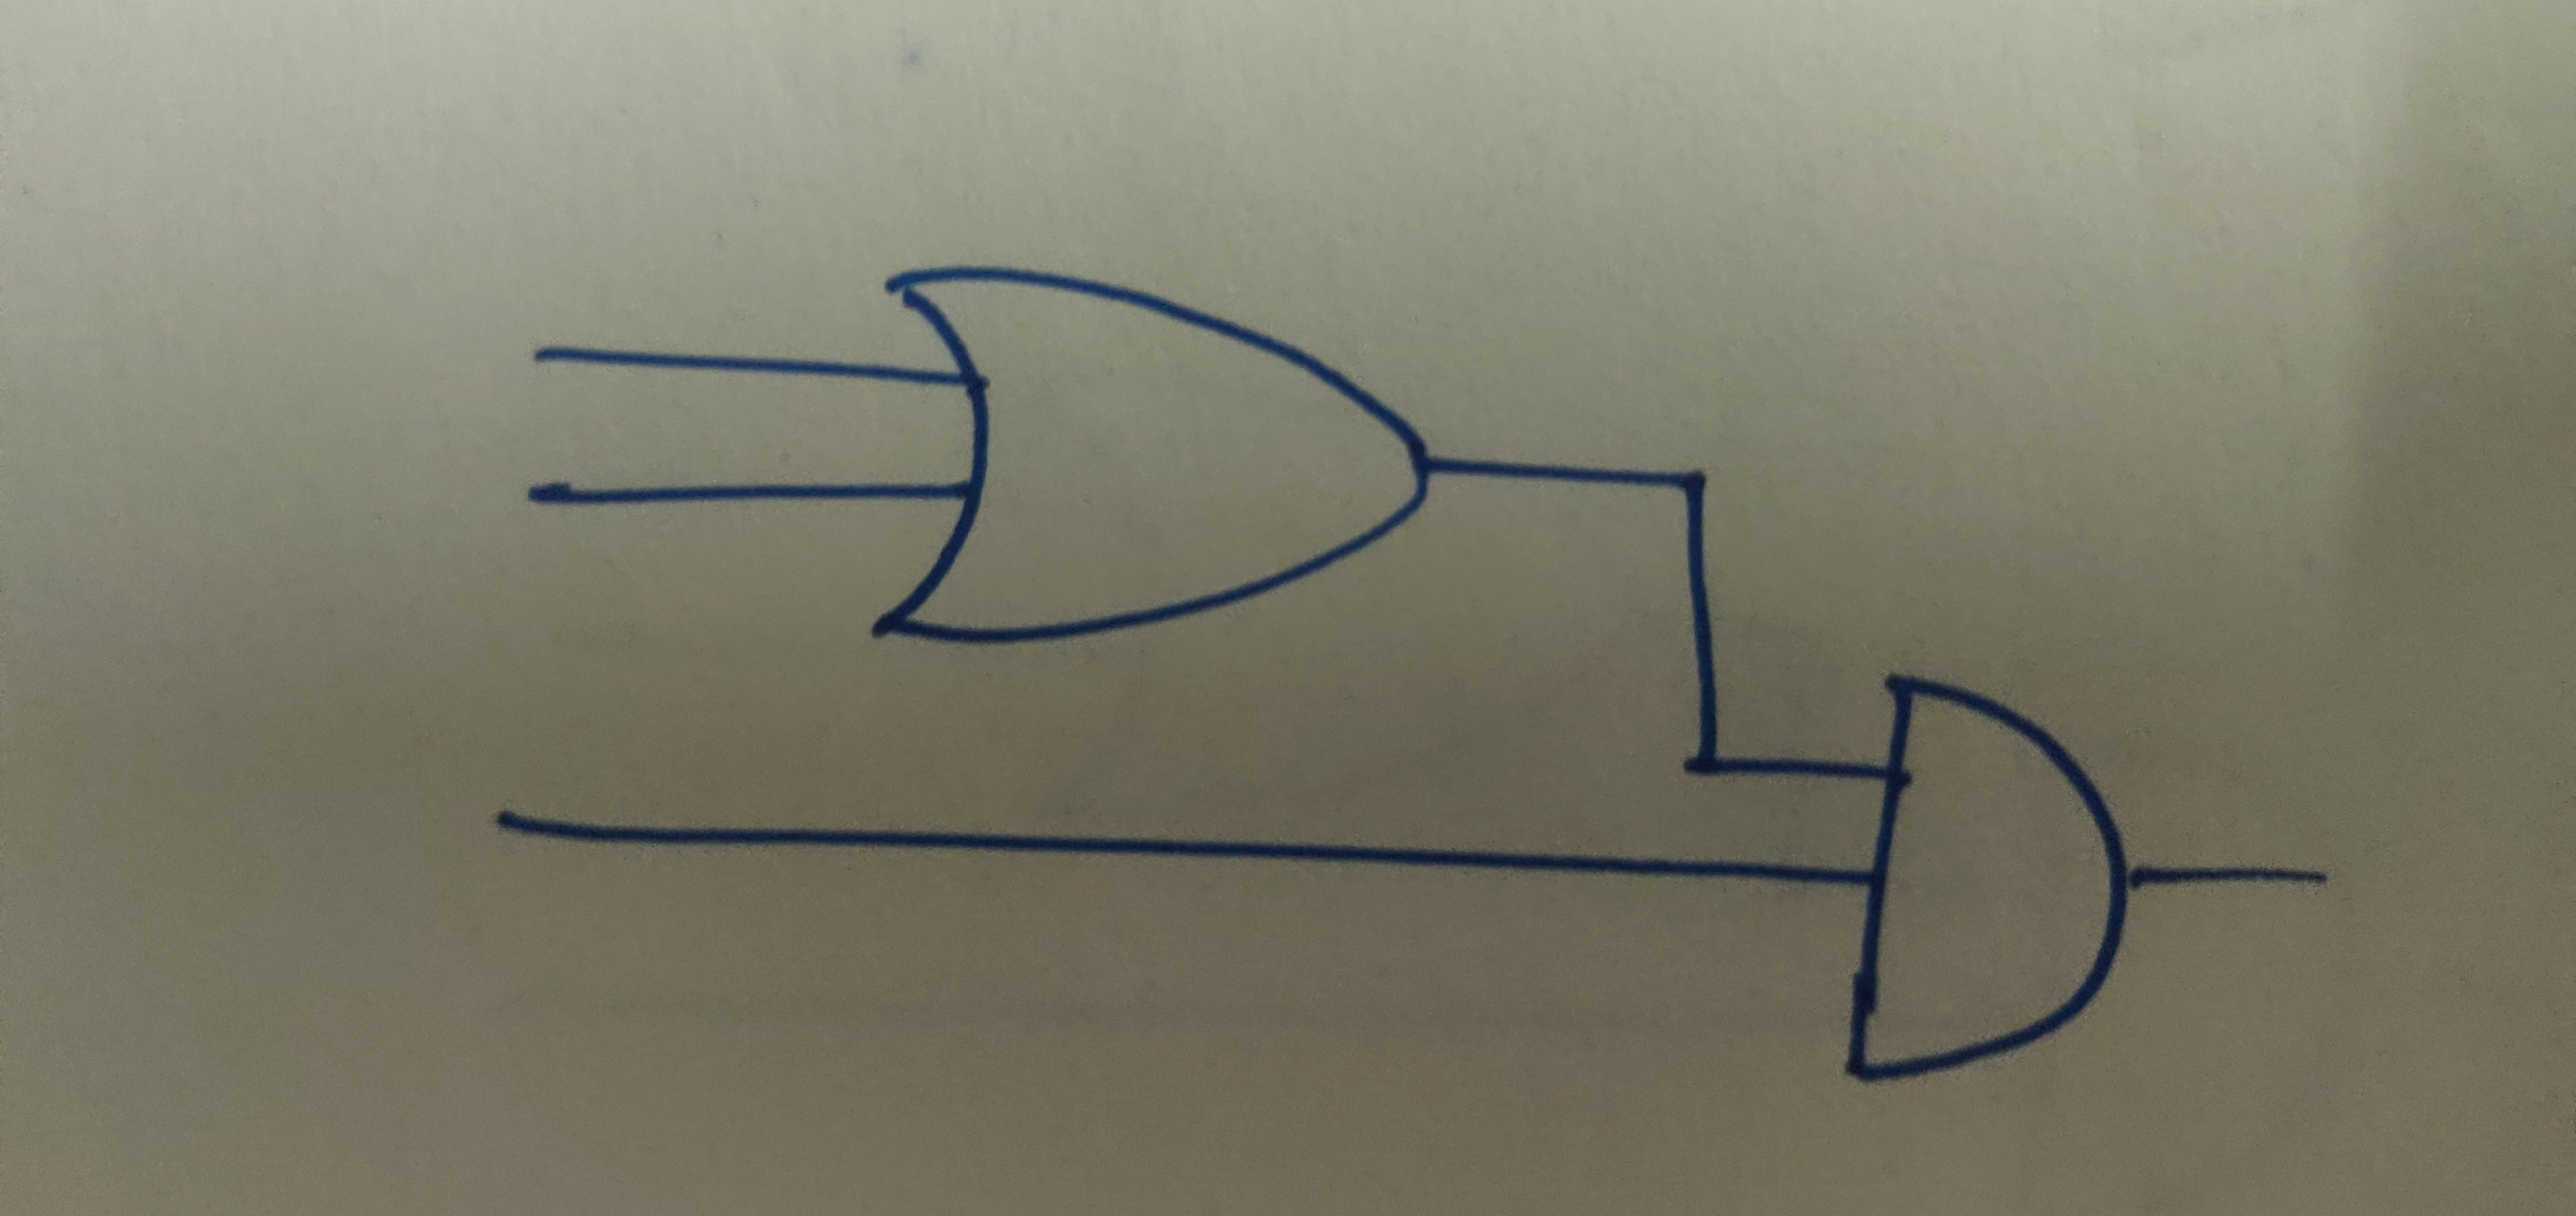and: (1847, 657, 2132, 1094)
or: (881, 263, 1433, 654)
